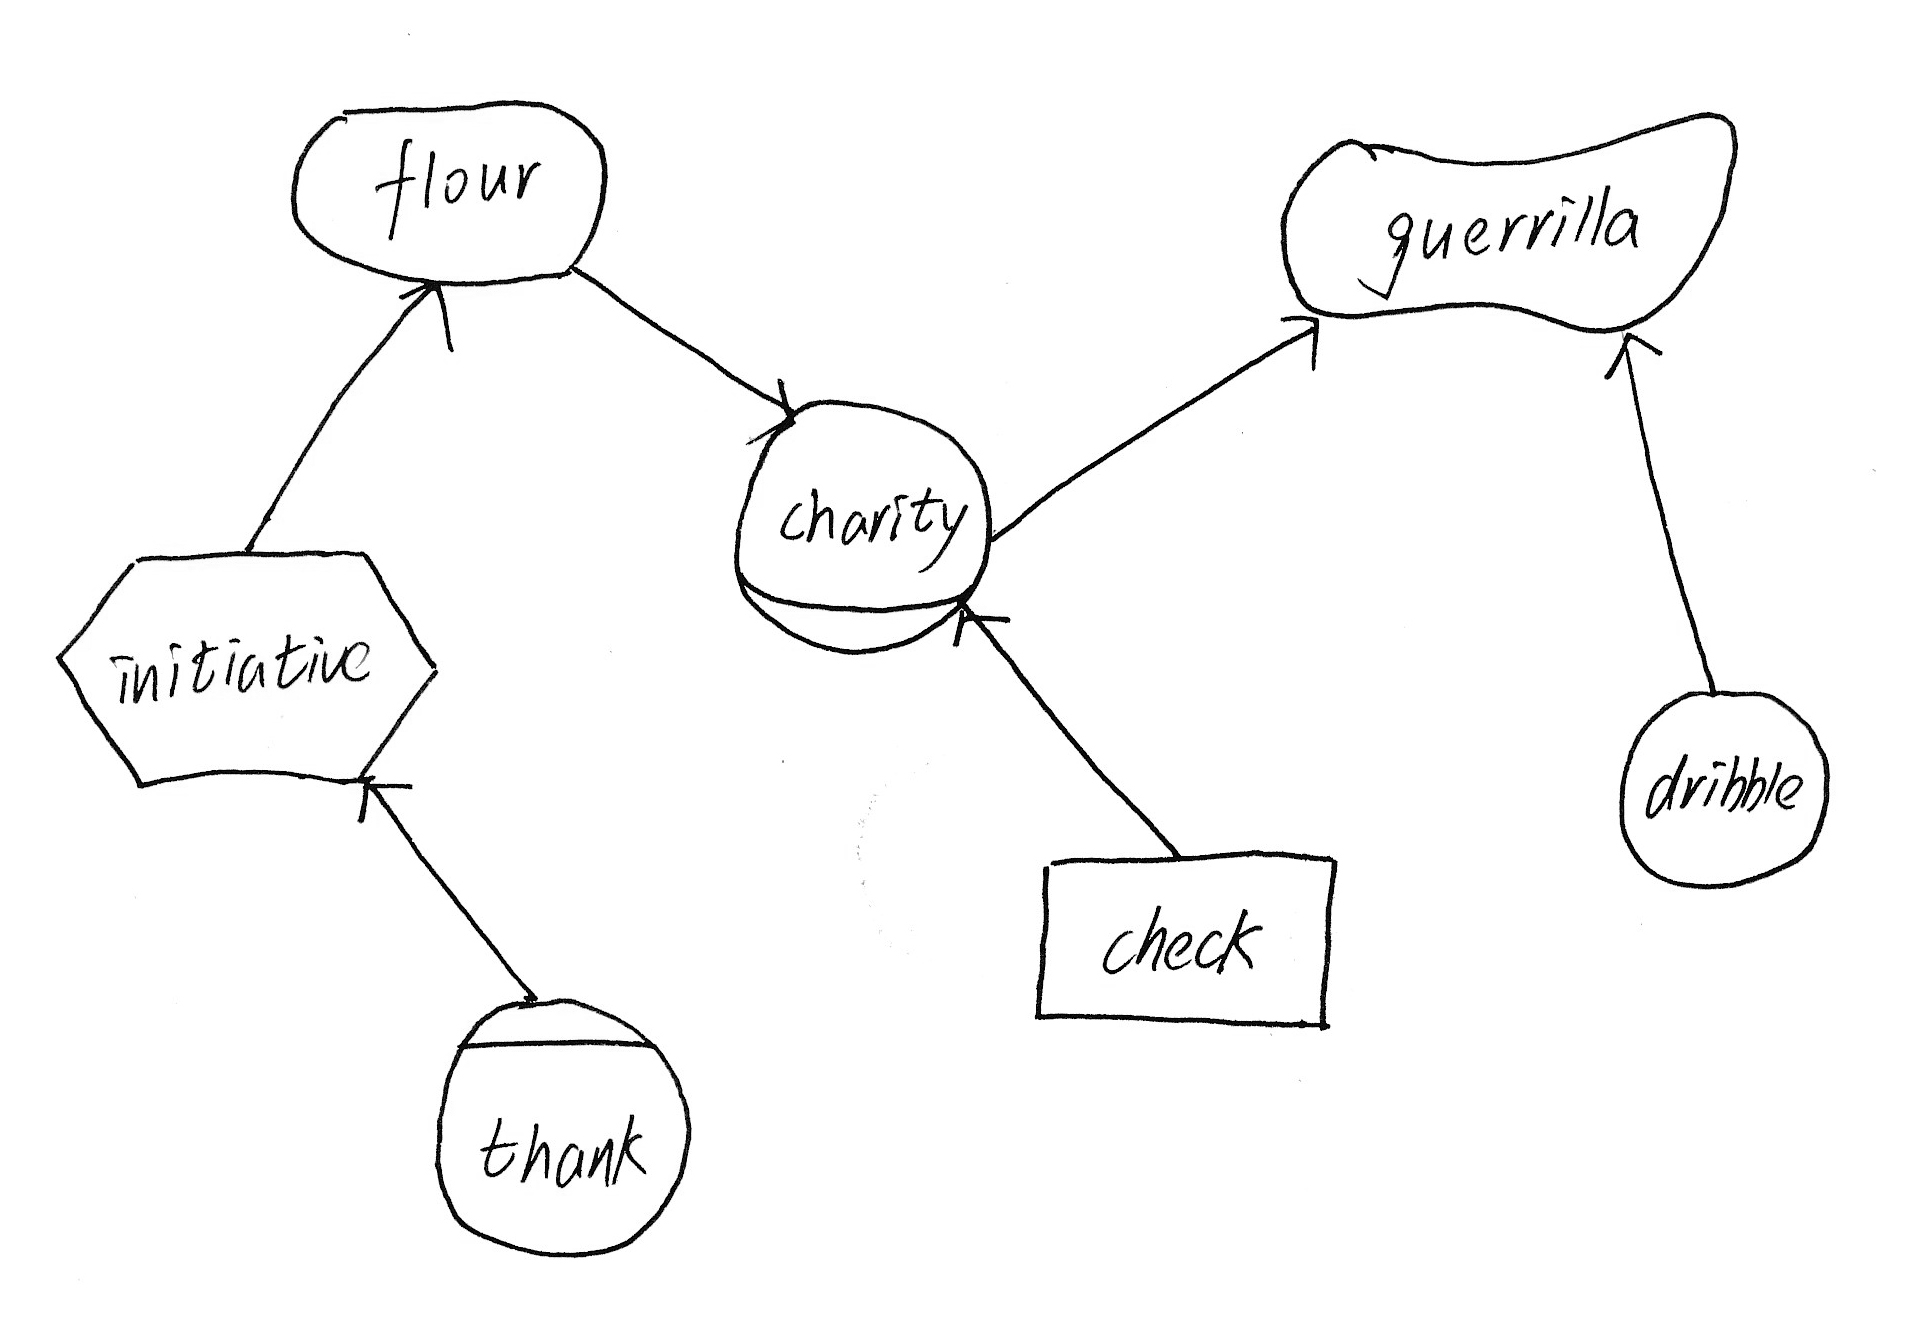actor: (1602, 674, 1844, 904)
agent: (417, 977, 711, 1271)
arrow: (387, 261, 471, 368), (336, 754, 425, 832), (940, 585, 1021, 663), (731, 368, 806, 451), (1594, 320, 1681, 390), (1261, 301, 1336, 377)
goal: (269, 84, 626, 301)
quality: (1260, 87, 1764, 357)
resource: (1012, 830, 1361, 1057)
role: (712, 382, 1012, 670)
task: (34, 532, 453, 808)
